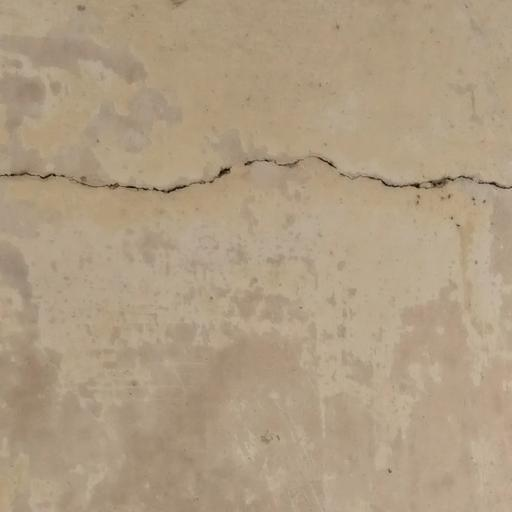major_crack: (0, 121, 512, 231)
